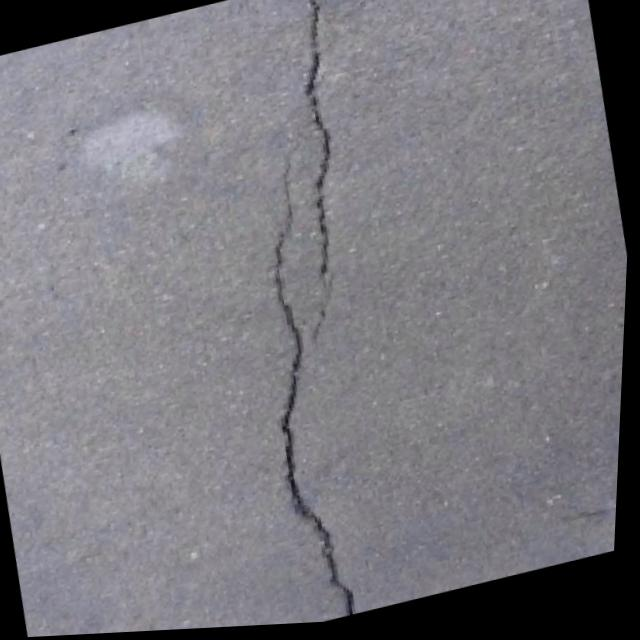Crack: (180, 0, 465, 632)
